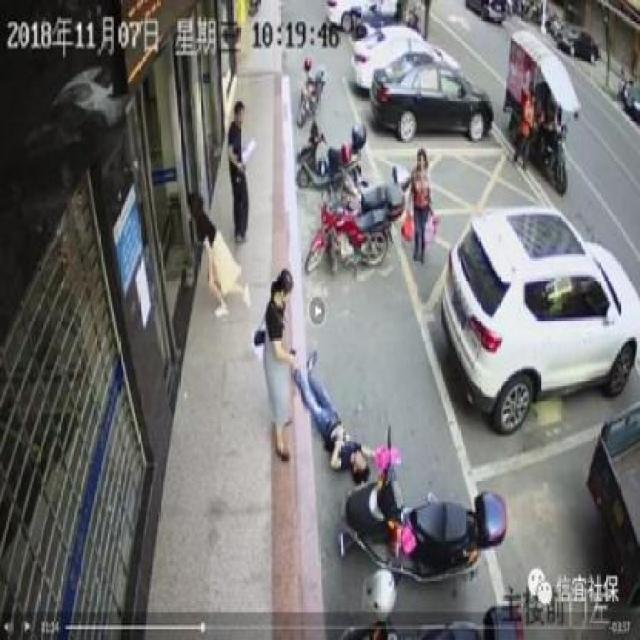fall: (286, 334, 380, 484)
